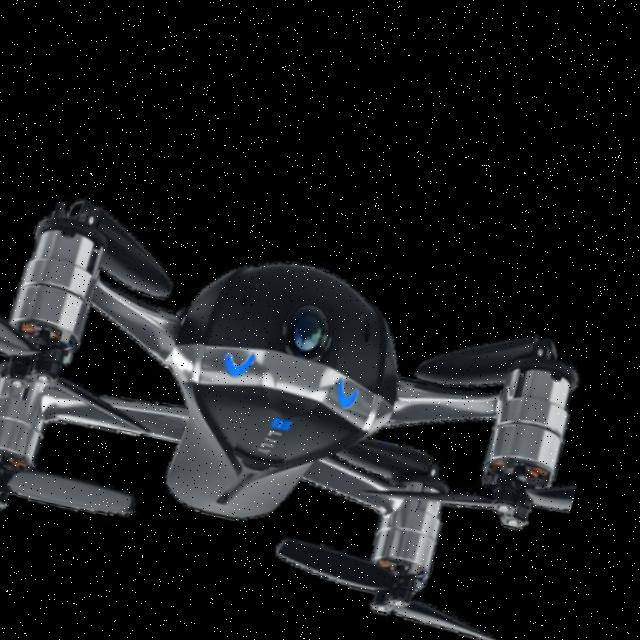drones: (0, 125, 630, 640)
